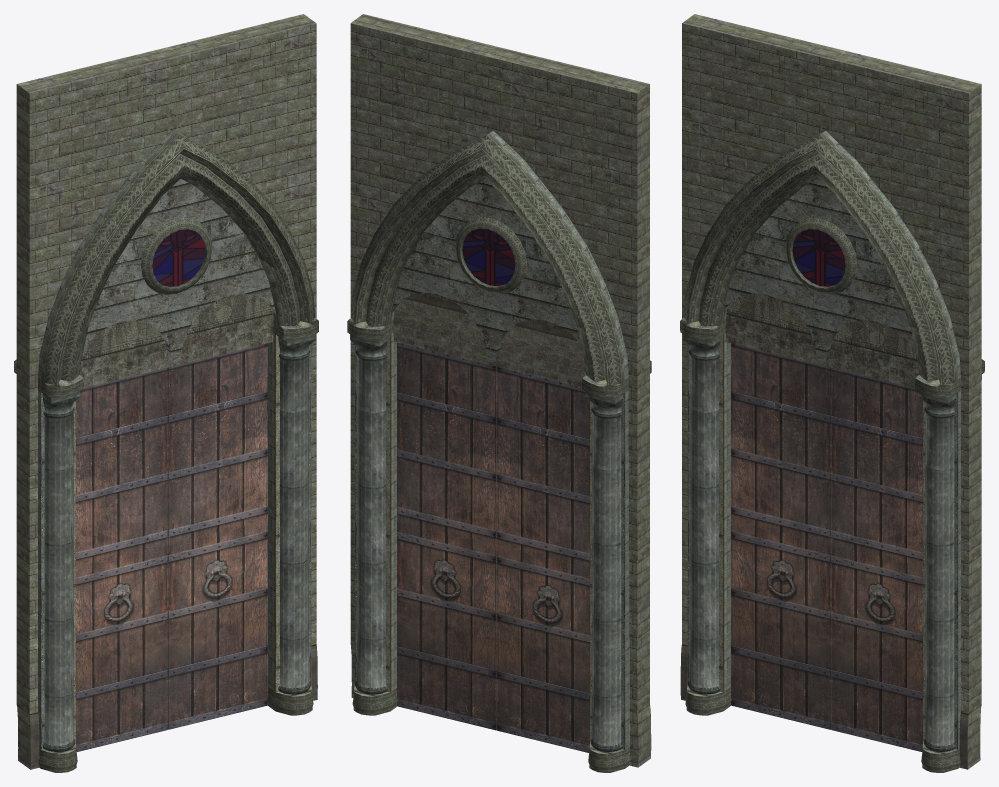
File: Entrance.fbx
3 views of the same model, side by side, from view 1: azimuth 30°, elevation 25°; view 2: azimuth 150°, elevation 25°; view 3: azimuth 330°, elevation 25° (orthographic).
Parts seen in each view (by area): view 1: Mesh Object; view 2: Mesh Object; view 3: Mesh Object.
Boxes of the visible parts, x1,y1,x2,y2 form: Mesh Object: (14,14,318,772); Mesh Object: (347,14,651,772); Mesh Object: (680,14,984,772).
Size of the model in its own units: 4 by 9 by 1.01.
